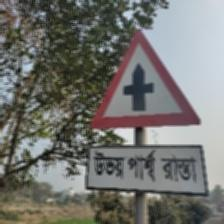Crossroad: (87, 29, 206, 197)
